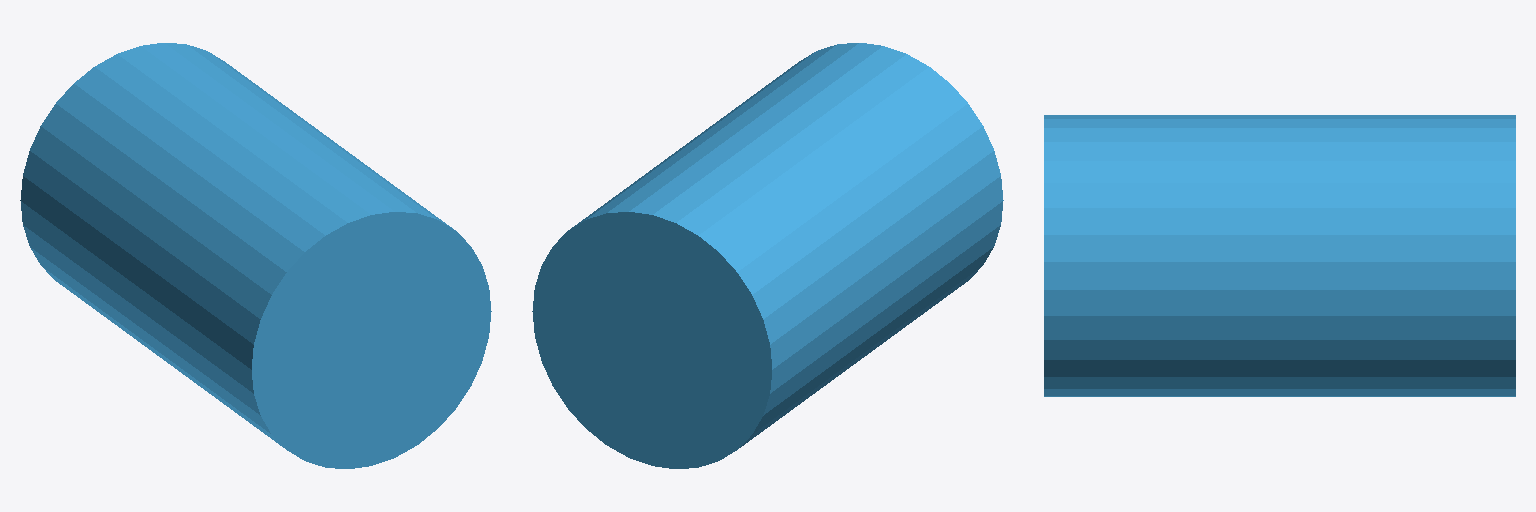
URDF robot description (scrap):
<?xml version="1.0"?>
<robot name="scrap">
  <link name="world" />

  <link name="scrap_body">
    <visual>
      <geometry>
	<mesh filename="package://scrap_descs/desc/mesh/simpleCylinder.dae" />
      </geometry>
    </visual>
    <collision>
      <geometry>
	<mesh filename="package://scrap_descs/desc/mesh/simpleCylinder.dae" />
      </geometry>
    </collision>
    <inertial>
      <mass value="100" />
      <inertia ixx="100" ixy="0" ixz="0" iyy="100" iyz="0" izz="100" />
    </inertial>
  </link>

  <joint name="fixed" type="fixed">
    <origin rpy="0 0 0" xyz="0.0 0.0 0.0" />
    <parent link="world" />
    <child link="scrap_body" />
  </joint>

</robot>

--- Facts derived from the render (not from the file) ---
Views: 3 orthographic renders of the robot side by side, from view 1: azimuth 30°, elevation 25°; view 2: azimuth 150°, elevation 25°; view 3: azimuth 270°, elevation 25°.
Model scrap with 2 links and 1 joints (1 fixed), rooted at world, posed every joint at zero.
Links seen in each view (by area): view 1: scrap_body; view 2: scrap_body; view 3: scrap_body.
Link boxes in pixels (bbox=[...]): scrap_body: bbox=[20, 43, 491, 468]; scrap_body: bbox=[532, 43, 1003, 468]; scrap_body: bbox=[1044, 115, 1515, 396].
Bounding box of the posed robot: 0.675 × 1.13 × 0.675 m (x, y, z).
Meshes: 1 distinct files referenced, 1 mesh visuals loaded (1 Collada DAE).